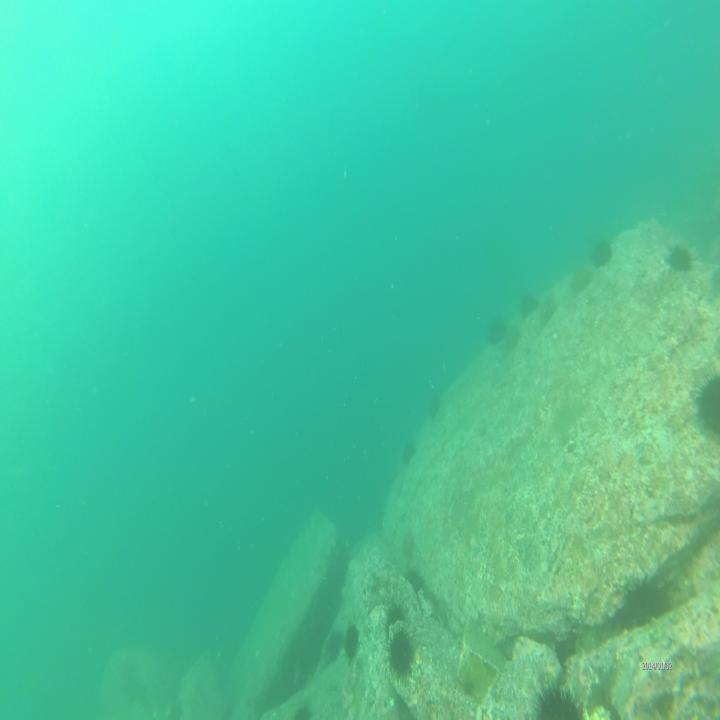echinus: (528, 679, 588, 720), (689, 362, 720, 437), (384, 629, 419, 685), (666, 234, 697, 280), (380, 595, 409, 637), (567, 262, 594, 298), (590, 234, 614, 273), (537, 292, 560, 329), (321, 626, 344, 662), (342, 622, 359, 661), (519, 288, 539, 320), (486, 312, 506, 342), (503, 323, 521, 353), (427, 391, 443, 423), (401, 438, 418, 468)
